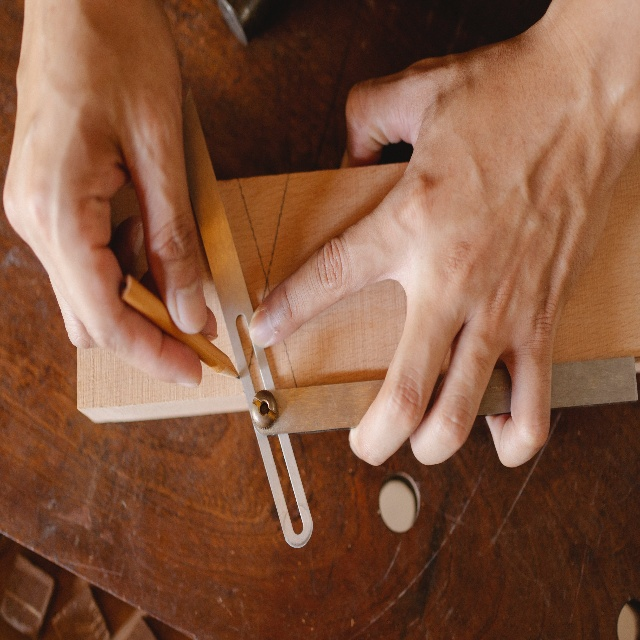Sin_guantes: (249, 0, 628, 469), (2, 0, 219, 390)
